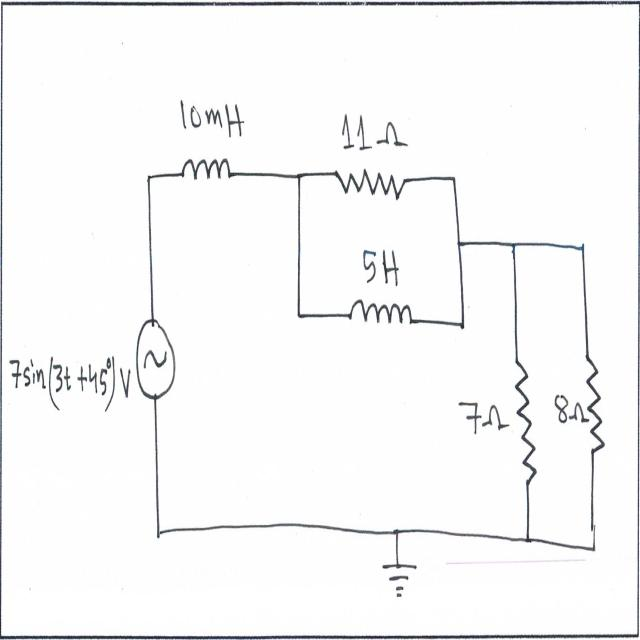ac_current: (132, 302, 180, 407)
ground: (383, 557, 420, 598)
inductor: (346, 297, 414, 337), (178, 152, 236, 194)
resistor: (508, 346, 540, 489), (330, 160, 412, 207), (582, 344, 608, 467)
